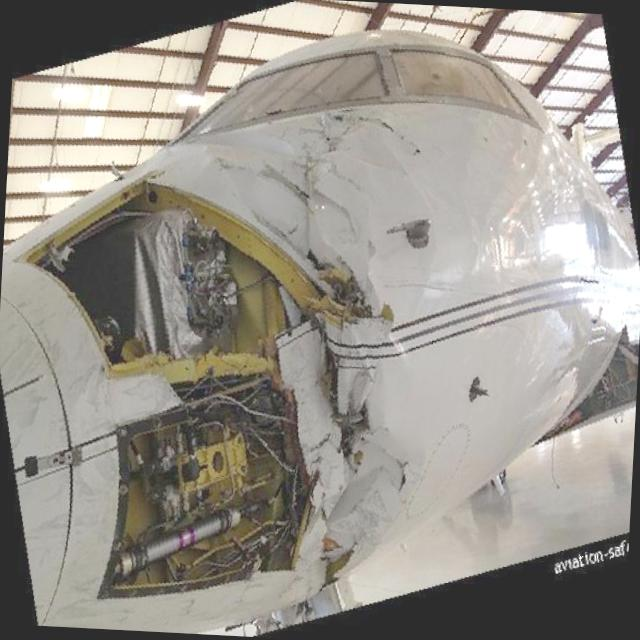crack: (331, 109, 434, 158), (358, 435, 414, 494)
dent: (330, 132, 408, 180), (212, 156, 254, 212)
